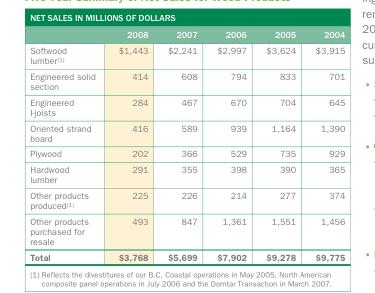table: (29, 29, 344, 261)
table column: (29, 29, 106, 261), (106, 29, 157, 261), (157, 29, 206, 261), (206, 29, 255, 261), (255, 29, 304, 261), (304, 29, 344, 261)
table column header: (29, 29, 344, 42)
table row: (29, 212, 344, 248), (29, 42, 344, 68), (29, 93, 344, 119), (29, 119, 344, 145), (29, 186, 344, 212), (29, 68, 344, 93), (29, 161, 344, 186), (29, 145, 344, 161), (29, 29, 344, 42), (29, 248, 344, 261)
